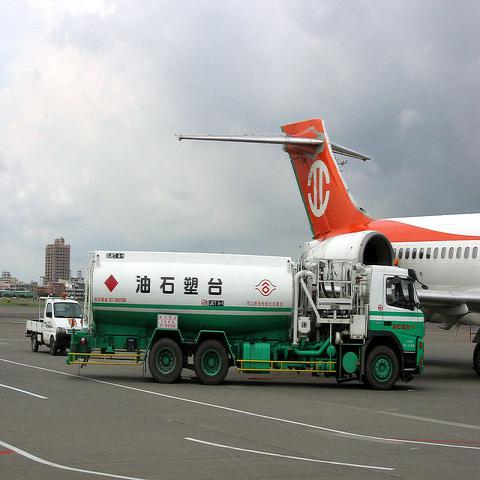truck: (65, 247, 429, 390), (25, 292, 84, 356)
